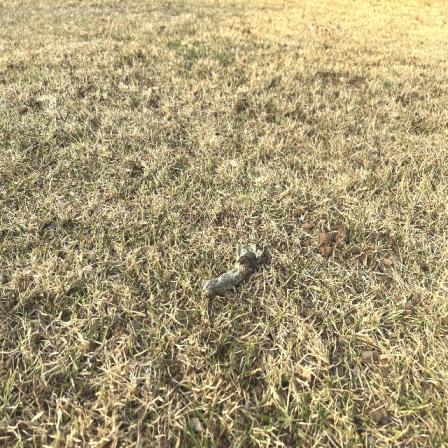dog-poop: (197, 241, 269, 302)
